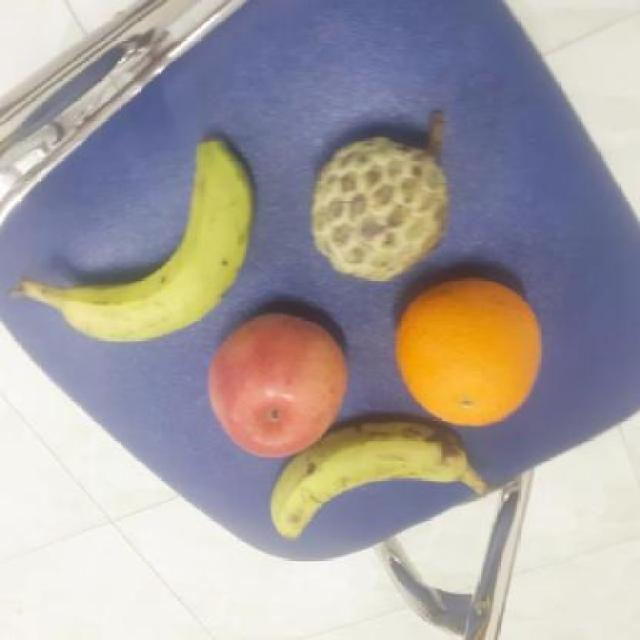apple: (204, 310, 356, 464)
banana: (50, 137, 258, 346), (268, 418, 472, 550)
oren: (396, 278, 546, 430)
sugar apple: (306, 132, 456, 286)
